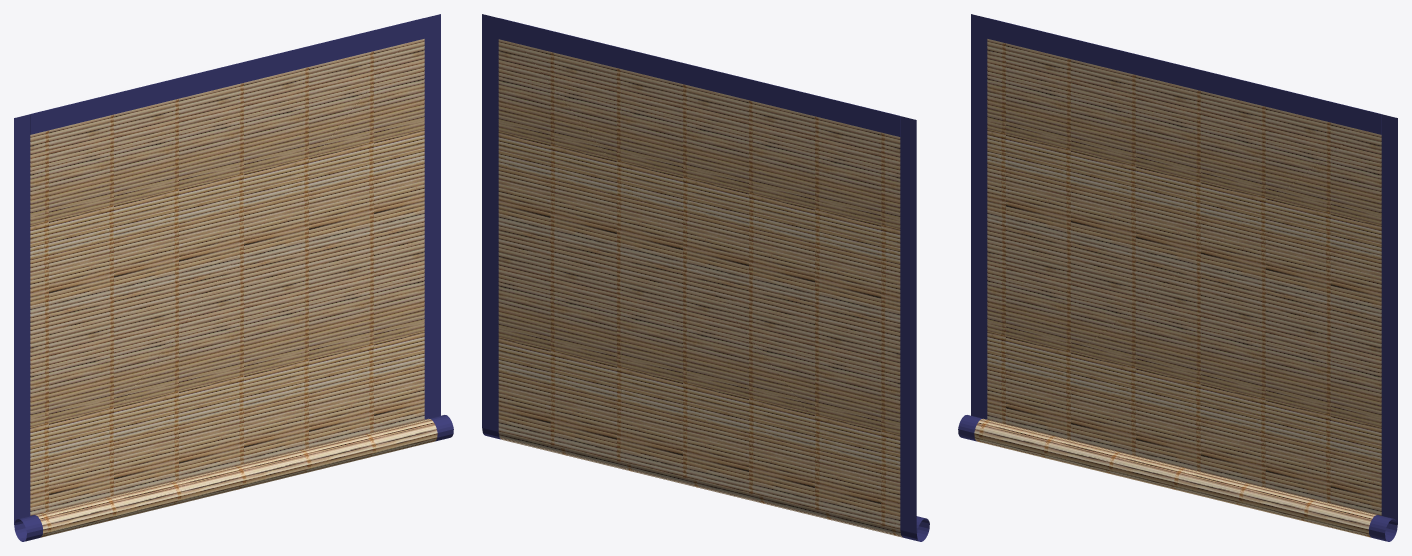
Rendered from wallcovering.FBX.
3 renders of one model, left to right at view 1: azimuth 30°, elevation 25°; view 2: azimuth 150°, elevation 25°; view 3: azimuth 330°, elevation 25°, orthographic.
Visible parts, largest first — view 1: wallcovering; view 2: wallcovering; view 3: wallcovering.
Part boxes in pixels (x1,y1,x2,y2): wallcovering: (14,14,453,541); wallcovering: (482,14,929,541); wallcovering: (958,14,1397,541).
Size of the model in its own units: 120 by 112 by 6.34.
